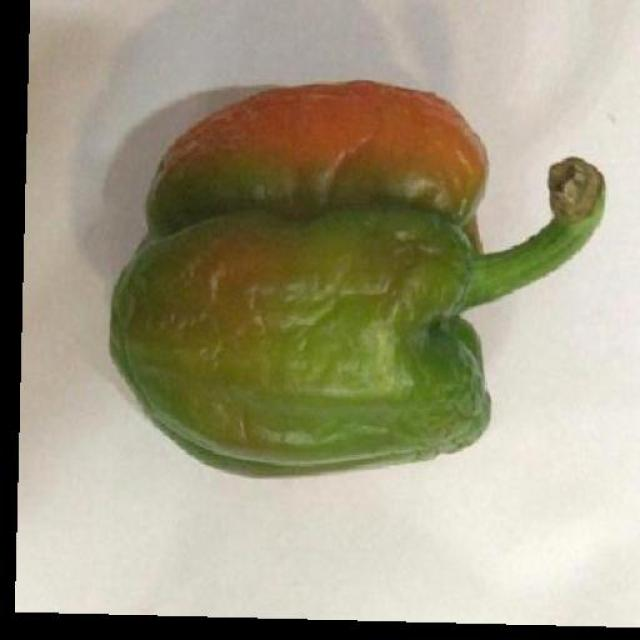Stale_Capsicum: (120, 97, 608, 476)
